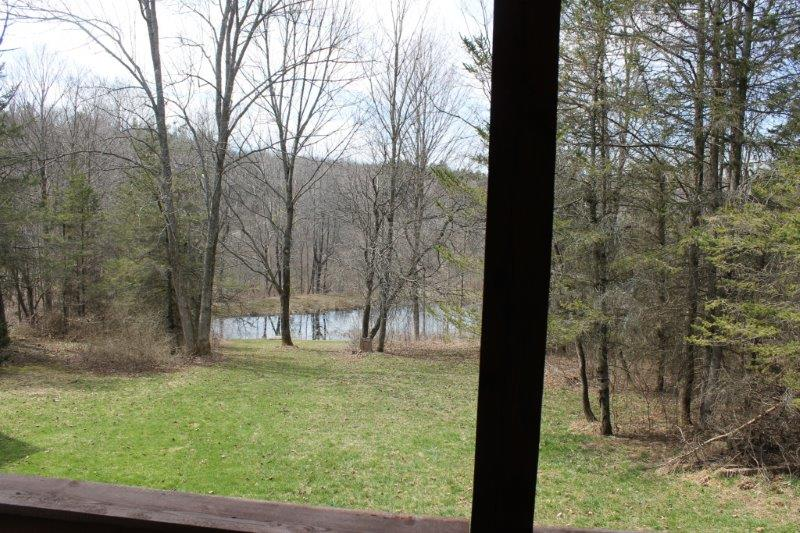sky: (1, 1, 492, 175)
tree: (561, 1, 688, 444), (227, 1, 365, 354), (138, 1, 231, 353)
water: (205, 305, 476, 339)
